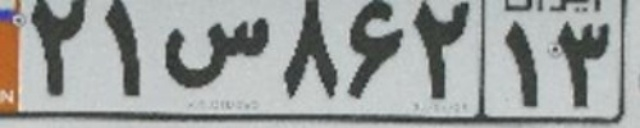1: (101, 0, 143, 96), (501, 20, 544, 107)
2: (411, 0, 470, 99), (29, 0, 87, 96)
3: (553, 19, 611, 108)
6: (347, 0, 402, 100)
8: (278, 0, 337, 99)
sin: (165, 16, 270, 87)
